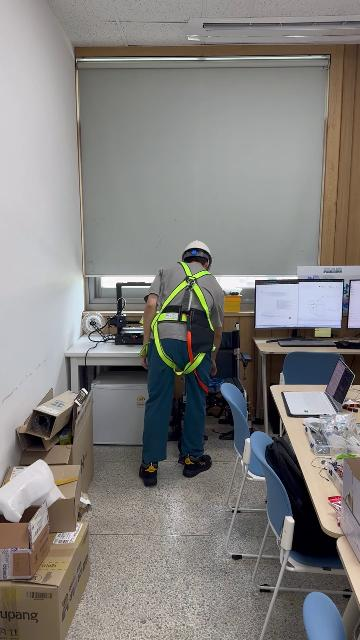helmet_worn: (182, 239, 212, 268)
shoe_worn: (180, 452, 212, 478), (139, 459, 159, 486)
vest_worn: (146, 265, 217, 374)
